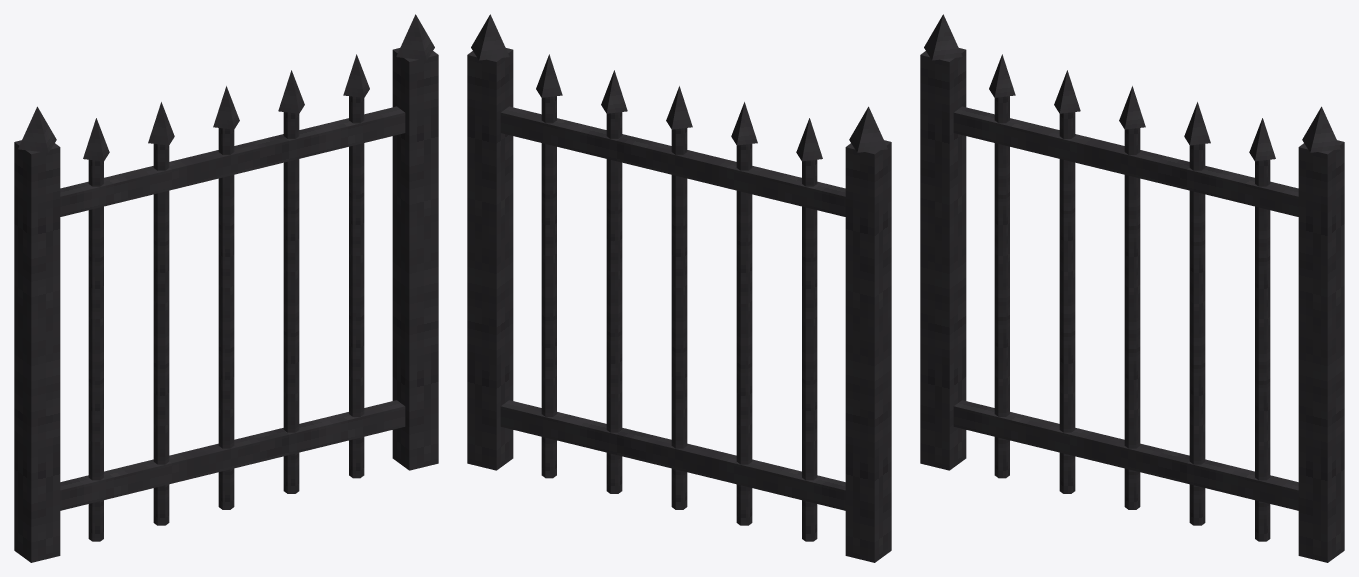
The model's file is iron_railing_3d.glb.
The picture shows the model from 3 angles, left to right: view 1: azimuth 30°, elevation 25°; view 2: azimuth 150°, elevation 25°; view 3: azimuth 330°, elevation 25°; orthographic projection.
Parts seen in each view (by area): view 1: m; view 2: m; view 3: m.
Part boxes in pixels (x1,y1,x2,y2): m: [14, 14, 438, 562]; m: [467, 14, 891, 562]; m: [920, 14, 1344, 562].
Bounding box in the file's own units: 1.07 × 1.09 × 0.1.
Materials: 1 (1 with a texture image).
